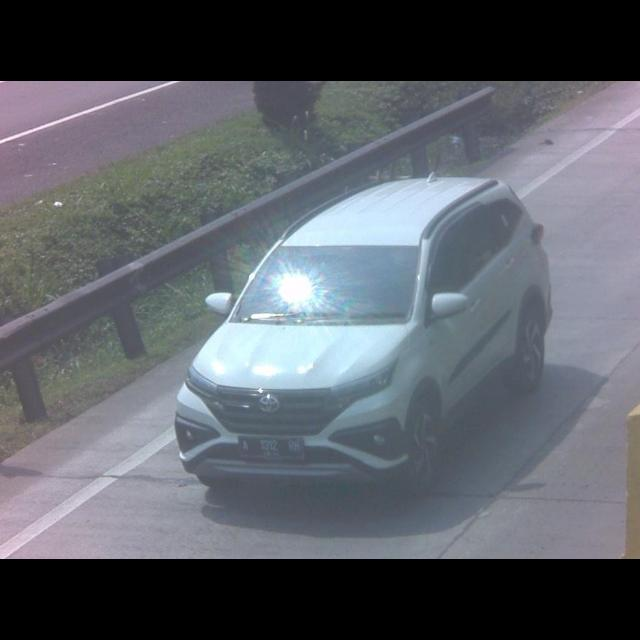plate: (238, 434, 304, 461)
